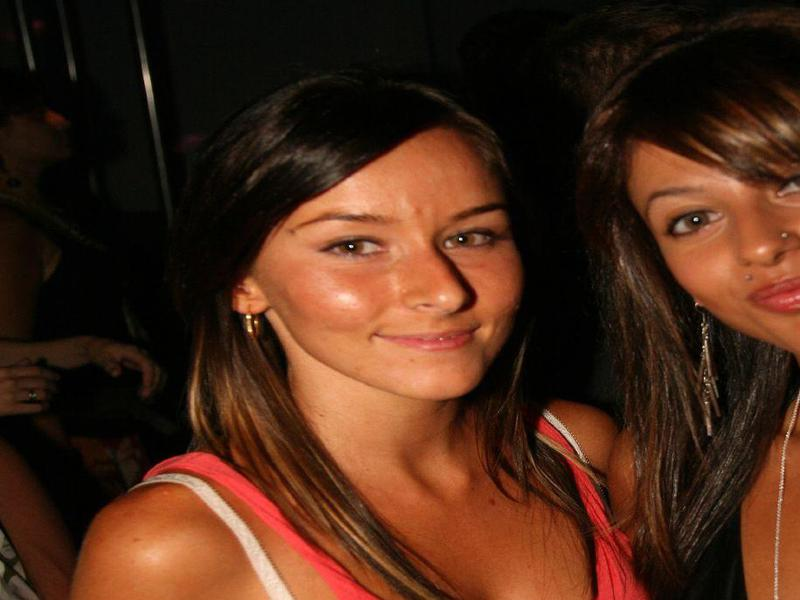person: (77, 85, 652, 600), (589, 36, 798, 600)
